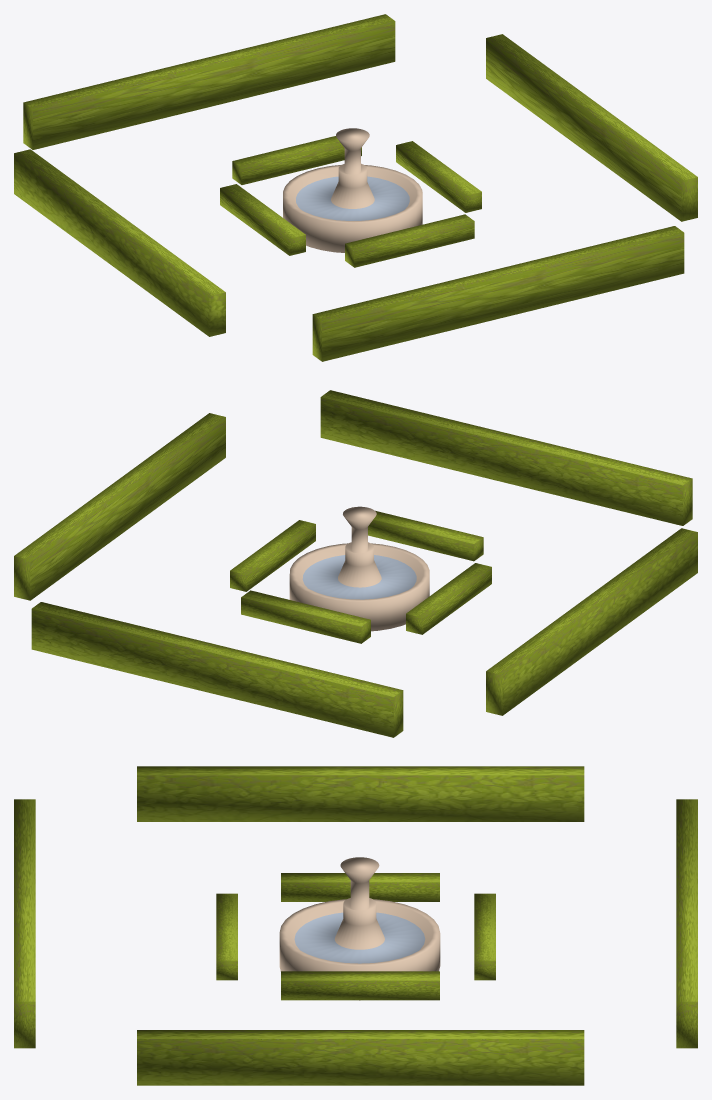
The model's file is Buckingham Palace4.fbx.
The picture shows the model from 3 angles, top to bottom: view 1: azimuth 30°, elevation 25°; view 2: azimuth 150°, elevation 25°; view 3: azimuth 270°, elevation 25°; orthographic projection. The views are drawn at different scales.
Parts seen in each view (by area): view 1: 平面.004; view 2: 平面.004; view 3: 平面.004.
Boxes of the visible parts, x1,y1,x2,y2 form: 平面.004: (14, 14, 697, 361); 平面.004: (14, 390, 697, 737); 平面.004: (14, 766, 697, 1085).
Size of the model in its own units: 12666 by 2188 by 13414.
3 materials, 1 textured.
